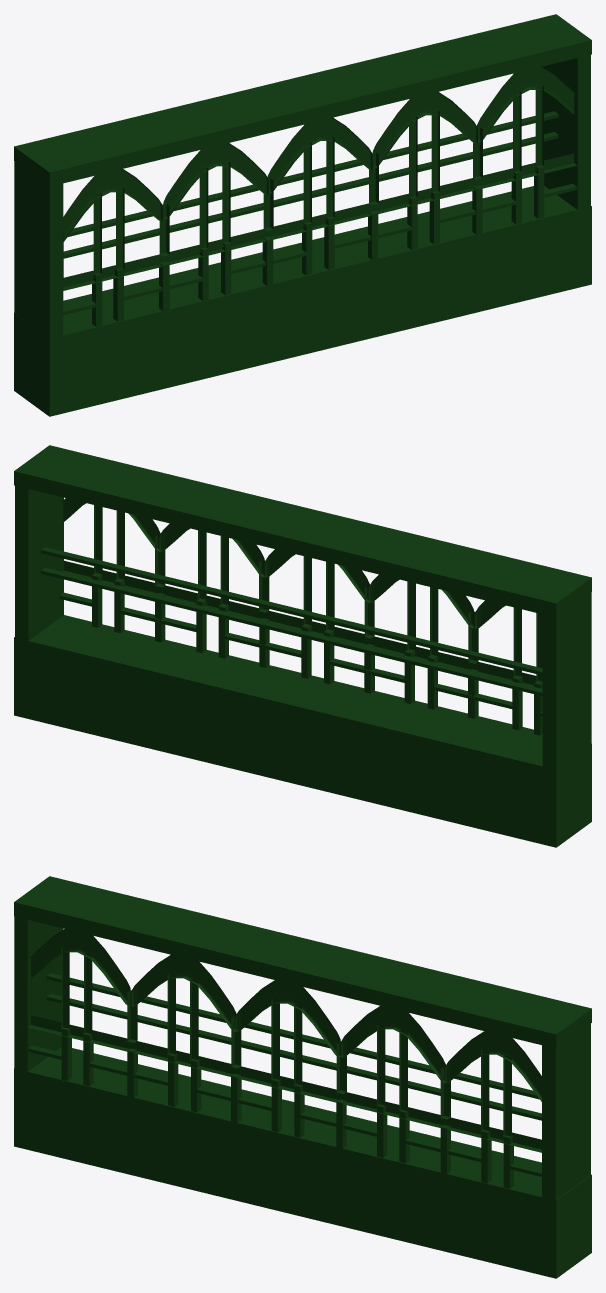
The model's file is patio_001.glb.
3 renders of one model, top to bottom at view 1: azimuth 30°, elevation 25°; view 2: azimuth 150°, elevation 25°; view 3: azimuth 330°, elevation 25°, orthographic.
Visible parts, largest first — view 1: Patio_001; view 2: Patio_001; view 3: Patio_001.
Boxes of the visible parts, <box> form: Patio_001: <box>14,14,591,416</box>; Patio_001: <box>14,445,591,847</box>; Patio_001: <box>14,876,591,1278</box>.
Size of the model in its own units: 17.6 by 7.58 by 2.01.
